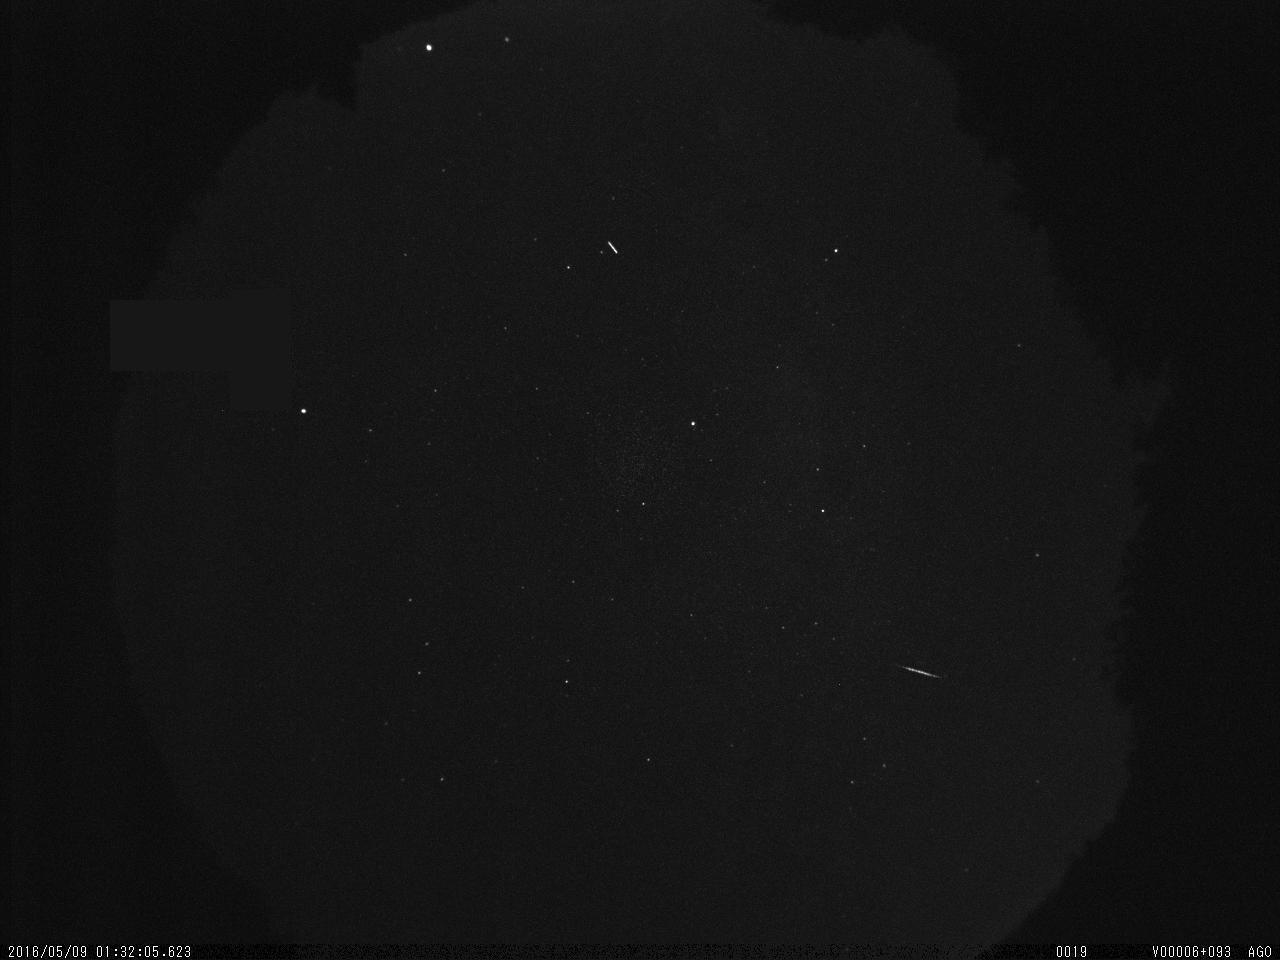Meteor: (899, 659, 945, 687)
